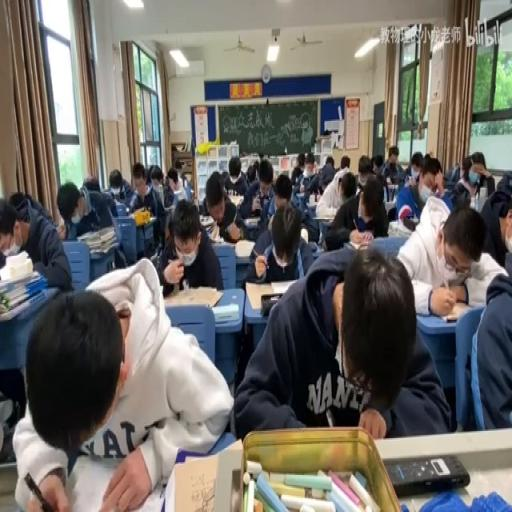calculator: (62, 450, 164, 509), (386, 454, 470, 496), (172, 455, 222, 511), (0, 289, 45, 320), (163, 286, 221, 308), (0, 266, 43, 294), (441, 300, 473, 320), (120, 209, 154, 225), (212, 302, 238, 322), (234, 238, 256, 258), (347, 230, 371, 248), (199, 214, 216, 234), (474, 189, 486, 212), (383, 196, 397, 214), (226, 194, 243, 206), (316, 209, 335, 219), (244, 214, 260, 224), (306, 195, 318, 206), (163, 202, 174, 212), (300, 225, 307, 240), (211, 235, 224, 243), (296, 190, 306, 198)
paper: (234, 242, 446, 436), (0, 192, 77, 439), (396, 194, 506, 314), (156, 196, 222, 294), (243, 200, 314, 288), (325, 171, 389, 250), (57, 179, 102, 239), (140, 165, 171, 250), (450, 154, 490, 204), (304, 154, 336, 198), (104, 165, 134, 210), (221, 155, 246, 198), (381, 145, 404, 191), (419, 158, 444, 199), (164, 164, 187, 200), (402, 150, 424, 184), (493, 170, 512, 204), (272, 172, 291, 205), (498, 209, 512, 250), (9, 189, 28, 215), (339, 173, 356, 202), (290, 152, 304, 186), (357, 162, 373, 189), (443, 162, 459, 184), (82, 174, 102, 190), (246, 162, 258, 184), (258, 151, 268, 175), (370, 154, 382, 172), (145, 165, 154, 186), (340, 155, 350, 171), (150, 175, 162, 188), (384, 179, 390, 202), (325, 155, 334, 169), (305, 156, 314, 170), (133, 174, 143, 186), (422, 151, 429, 165)
person: (230, 468, 242, 510), (260, 292, 282, 314), (402, 218, 416, 230)
